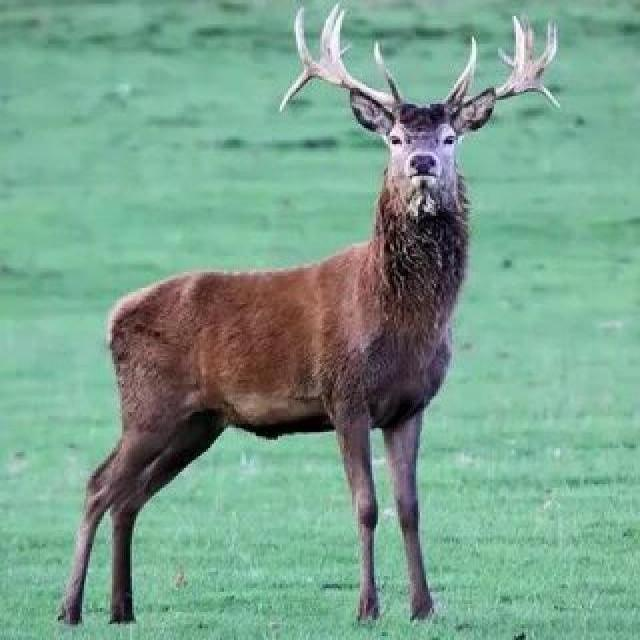deer: (71, 9, 587, 640)
